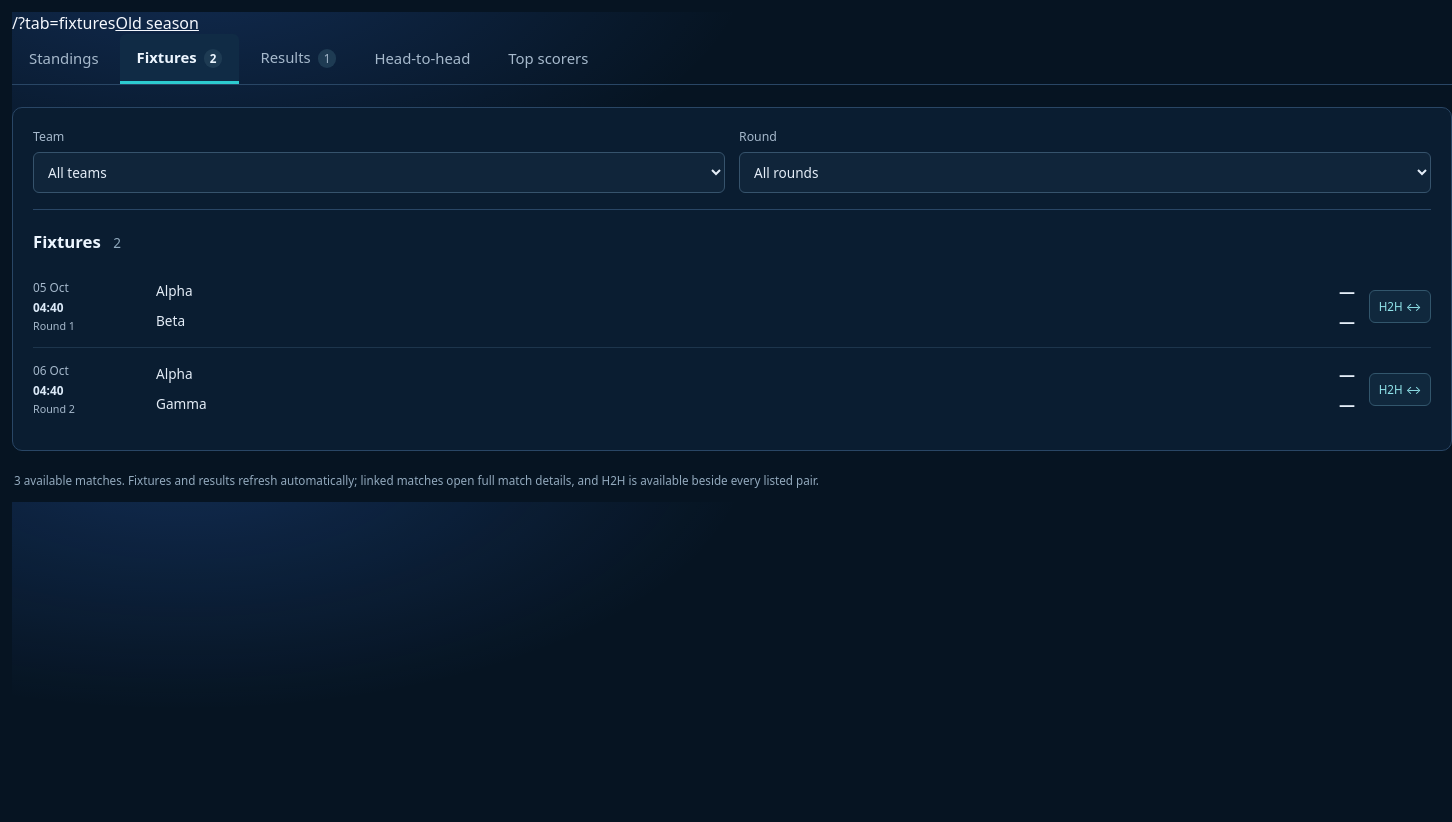
Test: fixtures, results and exact team/round filters are connected and bookmarkable
This screenshot has width=1452, height=822.
Expected: the dropdown named "Filter team" is shown, [33, 152, 725, 193]
Expected: the number of list items with class "hub-fixture-row" is 2, [33, 265, 1431, 347]; [33, 347, 1431, 430]
Select "2" in the dropdown named "Filter round" at (1085, 172), box [739, 152, 1431, 193]
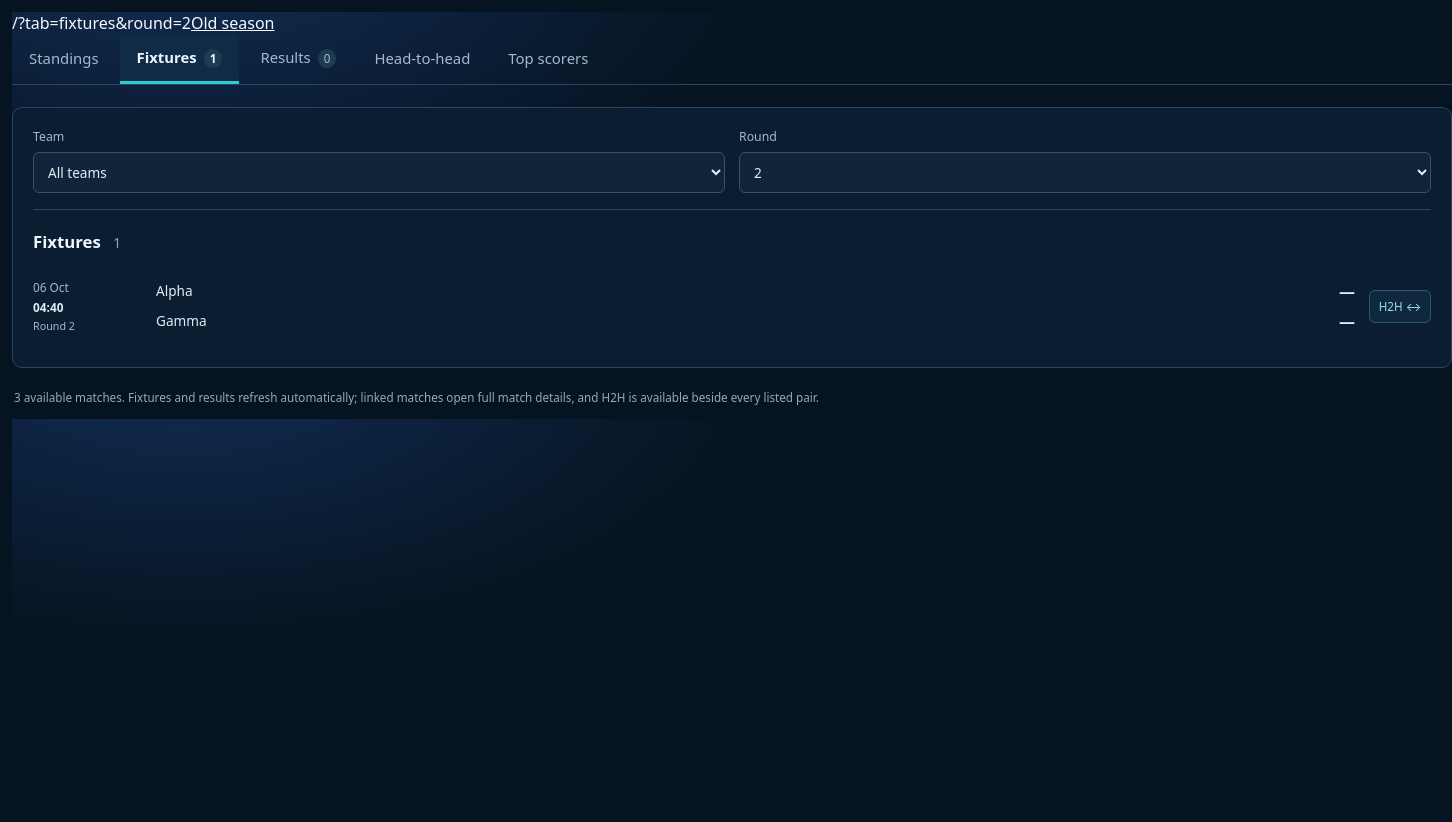
Now the number of list items with class "hub-fixture-row" is 1, box [33, 265, 1431, 347]
Now the text with test id "where" shows "round=2", box [12, 12, 191, 34]
Select "All rounds" in the dropdown named "Filter round" at (1085, 172), box [739, 152, 1431, 193]
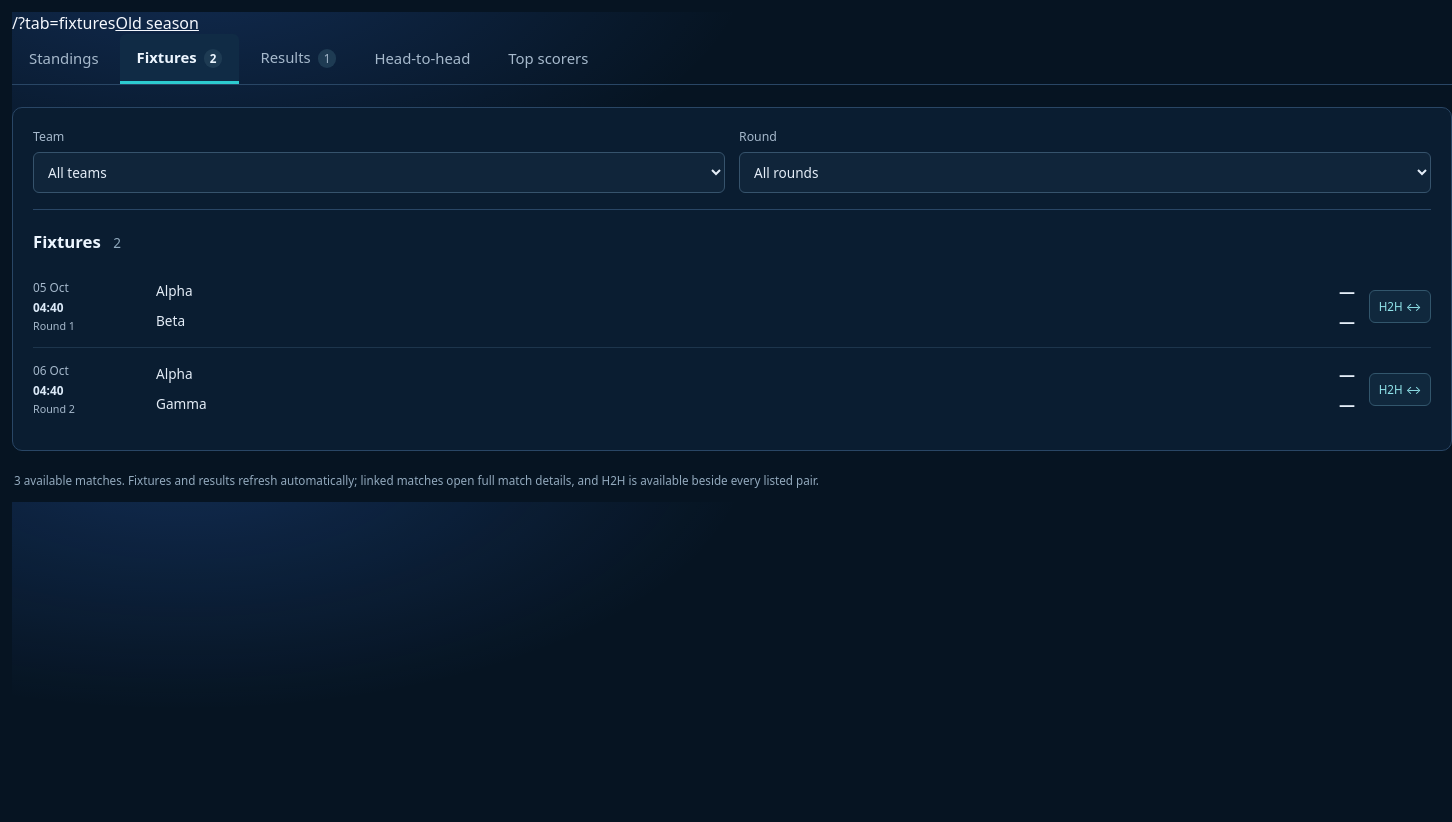
Click the tab "Results 1".
click(298, 59)  # box [243, 34, 353, 84]
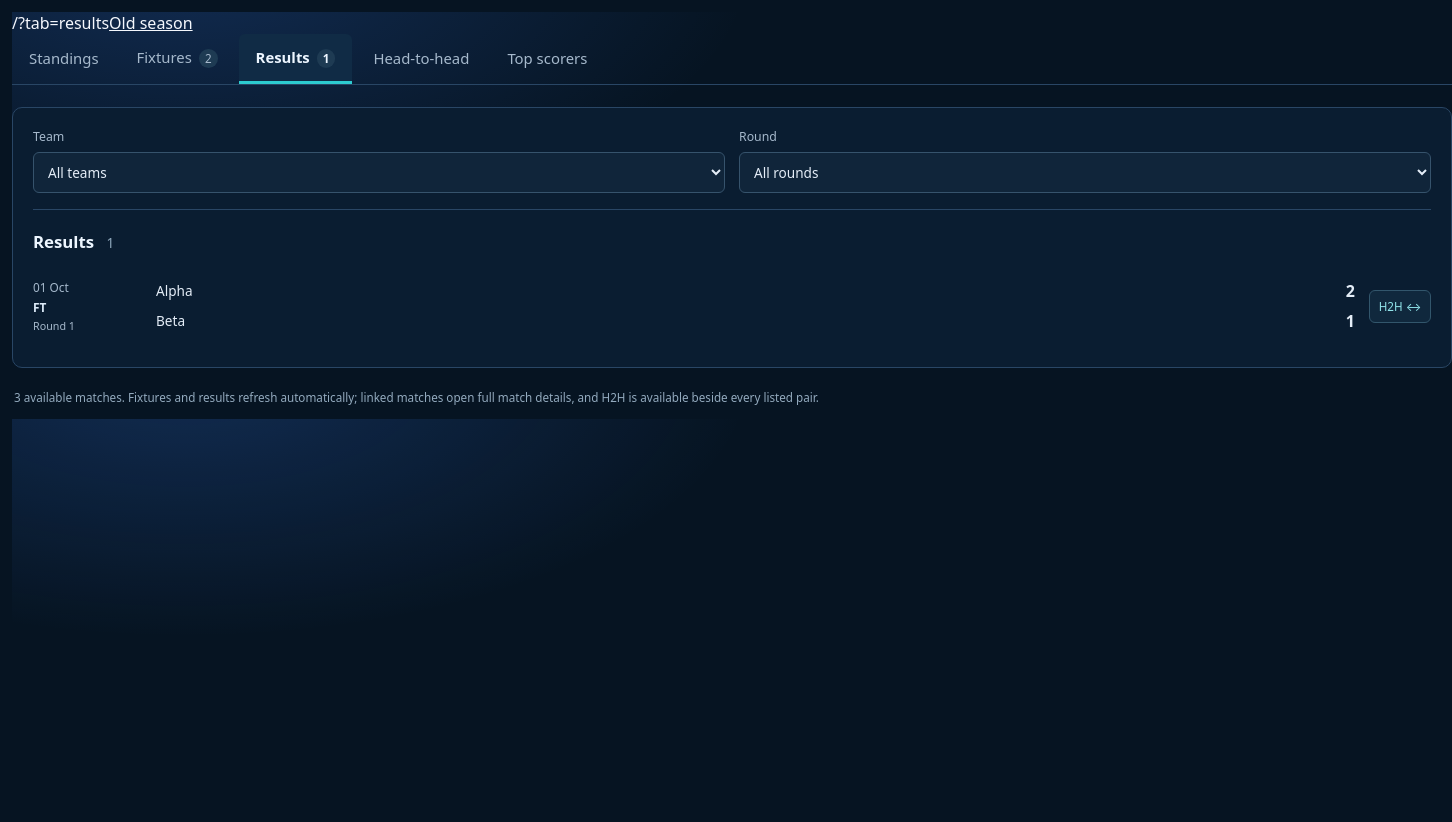
Now the number of list items with class "hub-fixture-row" is 1, box [33, 265, 1431, 347]
Now the text "FT" is shown, box [33, 299, 46, 315]
